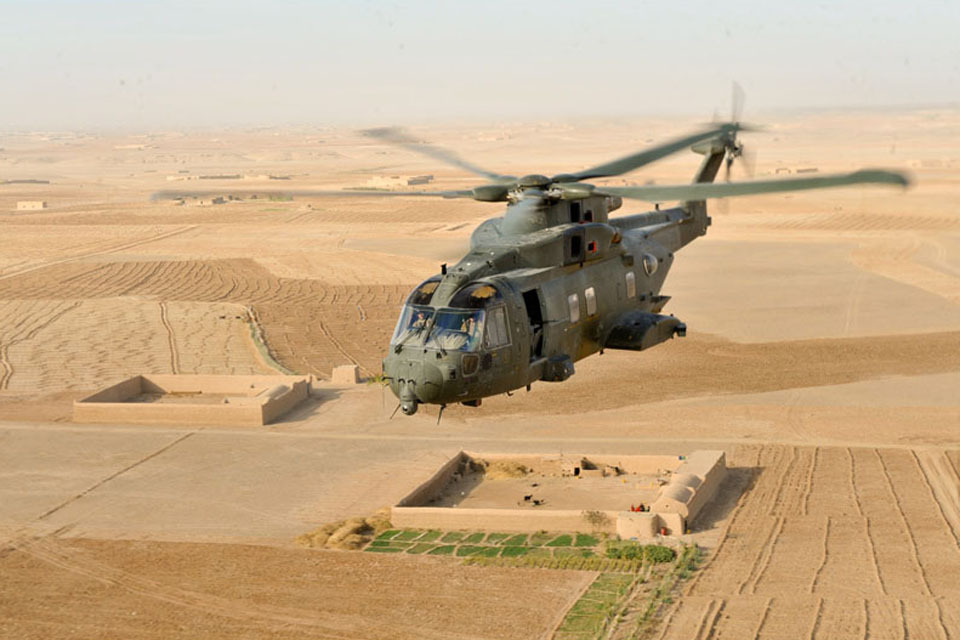Merlin: (343, 116, 909, 422)
